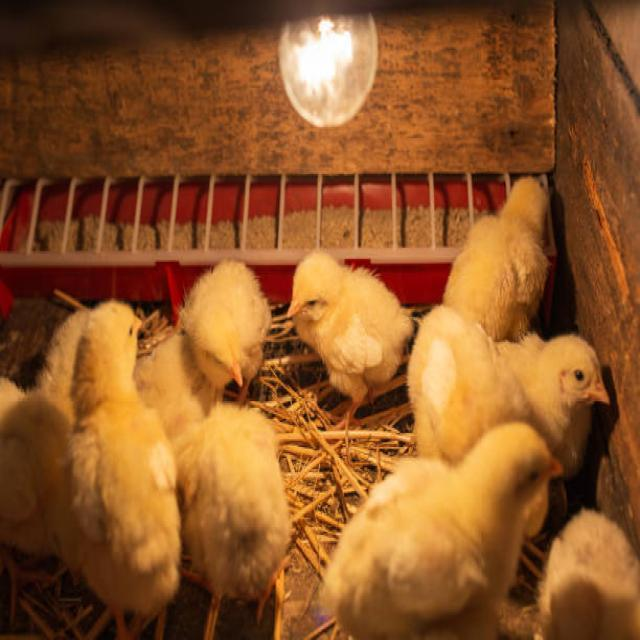poussin: (0, 298, 170, 628), (322, 426, 566, 625), (409, 324, 609, 465), (170, 396, 285, 610), (286, 246, 416, 428), (445, 175, 553, 339), (186, 248, 272, 396)
